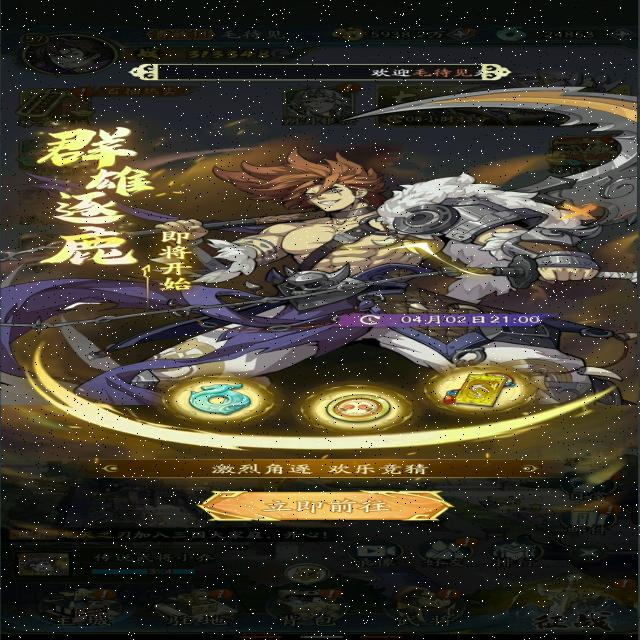operation-close: (551, 199, 605, 228)
operation-confirm: (187, 485, 454, 524)
